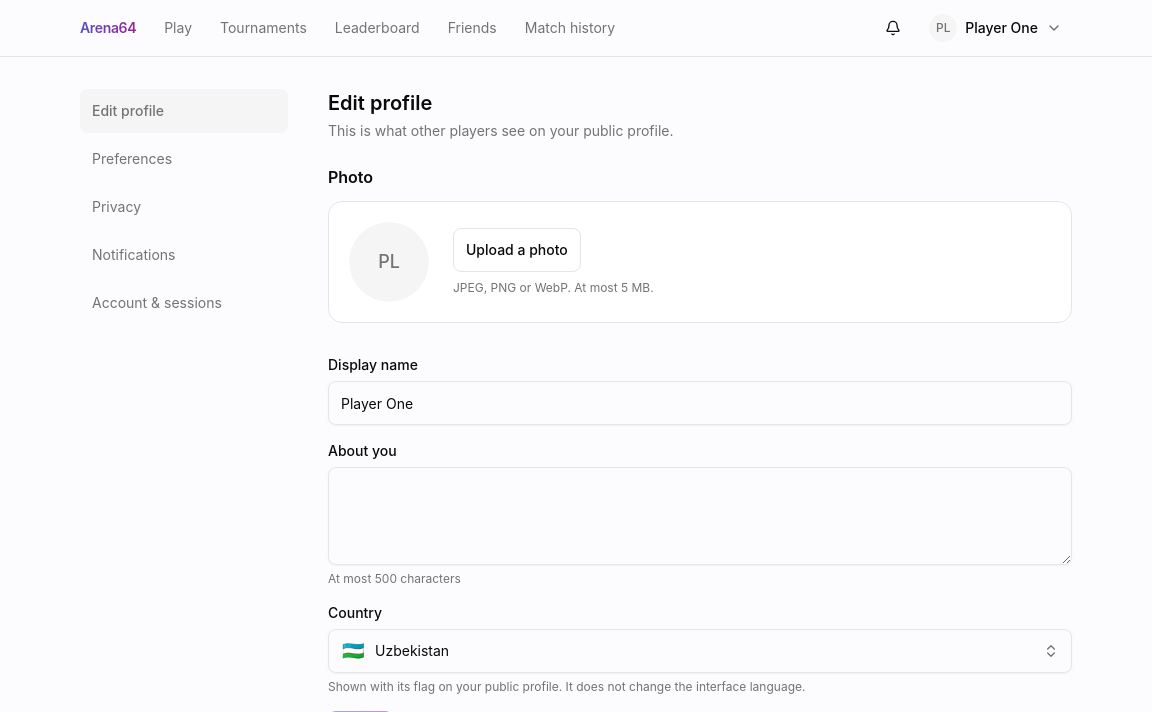
Scenario: choosing a country › says when nothing matches, and Enter then neither chooses nor submits
The width and height of the screenshot is (1152, 712).
Click the button named "country uzbekistan" at (412, 650), box [328, 629, 1072, 673]
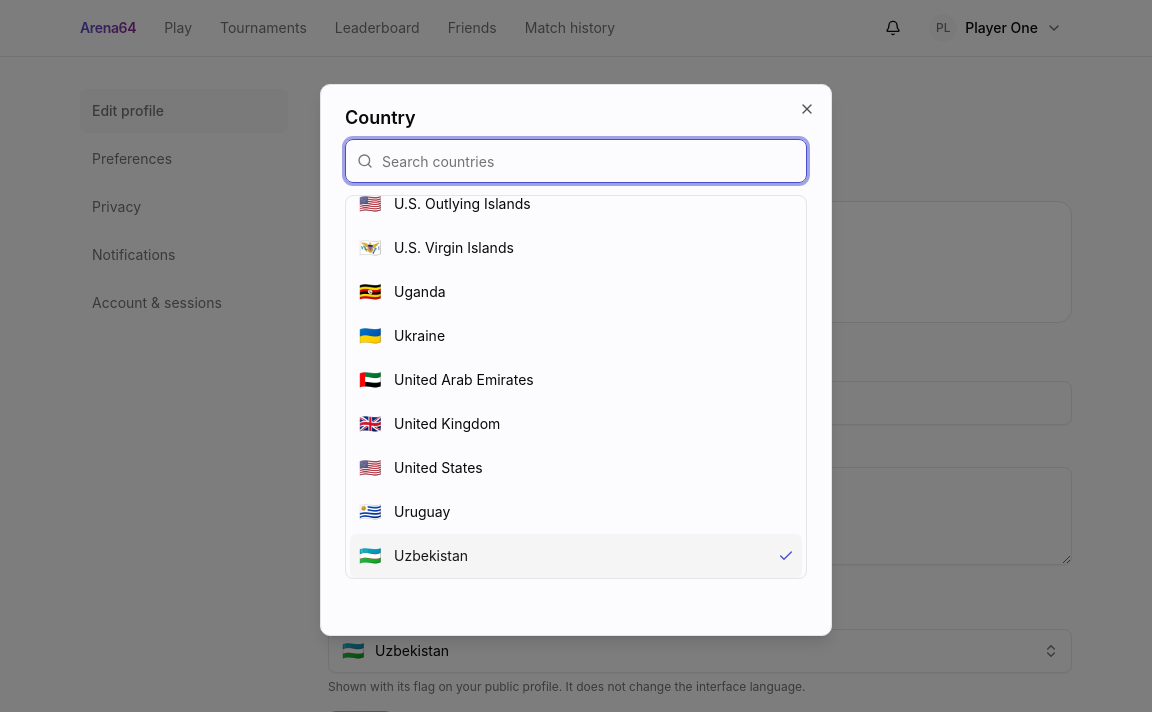
Type "atlantis" into the dropdown labelled "Search countries" at (576, 161), box [345, 139, 807, 183]
Then press Enter
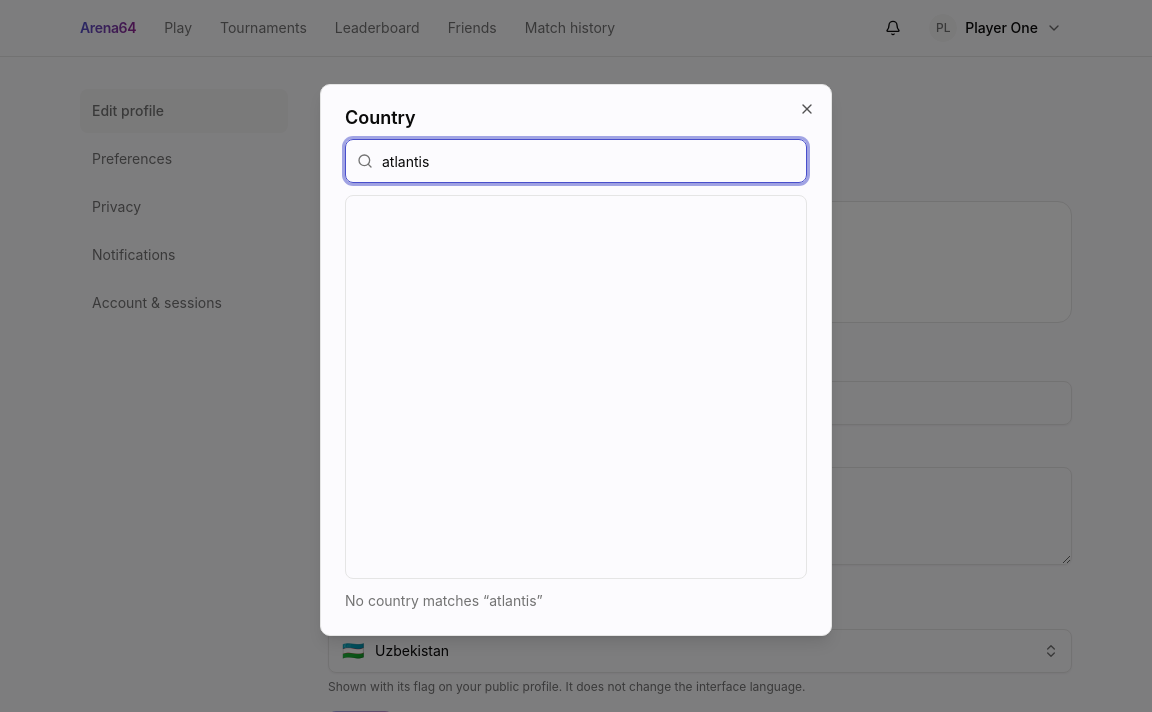
expect the dialog is shown: met, box [320, 84, 832, 636]
expect no options are shown: met
expect the text "No country matches “atlantis”" is shown: met, box [345, 592, 543, 609]
